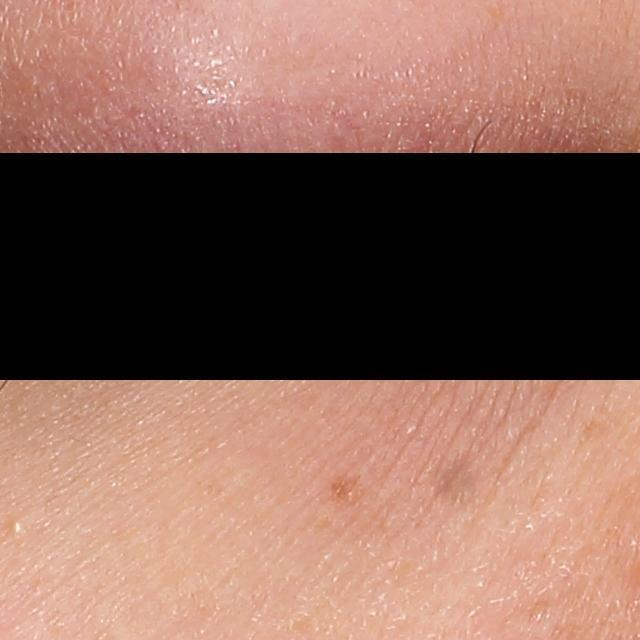comedo: (5, 516, 25, 535)
